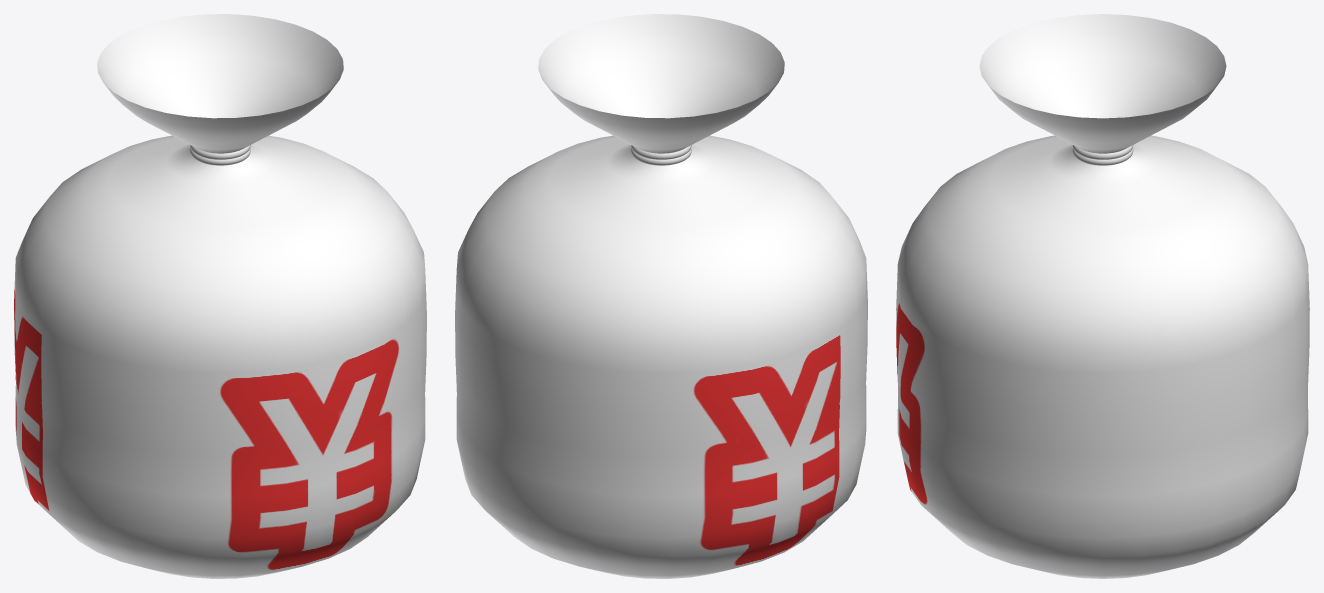
Rendered from YenBagSmall.fbx.
3 renders of one model, left to right at view 1: azimuth 30°, elevation 25°; view 2: azimuth 150°, elevation 25°; view 3: azimuth 270°, elevation 25°, orthographic.
Parts seen in each view (by area): view 1: Bag, tie; view 2: Bag, tie; view 3: Bag, tie.
Part boxes in pixels (bbox=[...]): Bag: bbox=[14, 14, 426, 578]; tie: bbox=[190, 145, 250, 165]; Bag: bbox=[455, 14, 867, 578]; tie: bbox=[631, 145, 691, 165]; Bag: bbox=[896, 14, 1309, 578]; tie: bbox=[1072, 145, 1133, 165].
Size of the model in its own units: 20.42 by 25.86 by 20.42.
